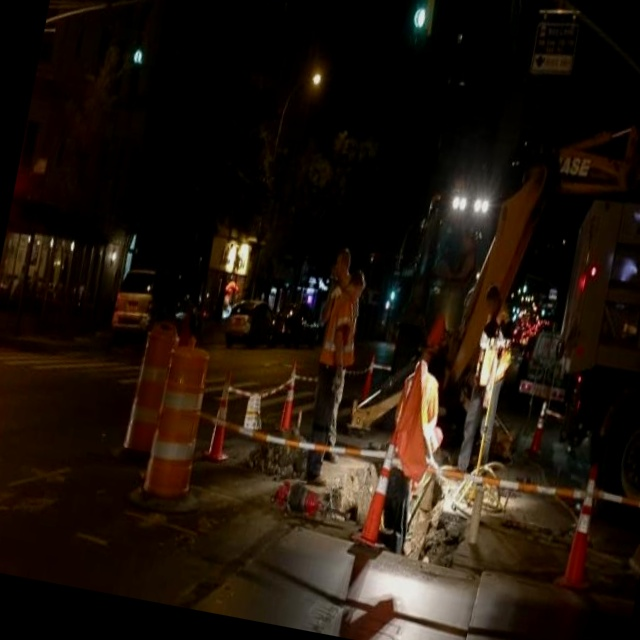Con_Chaleco: (318, 290, 366, 372)
